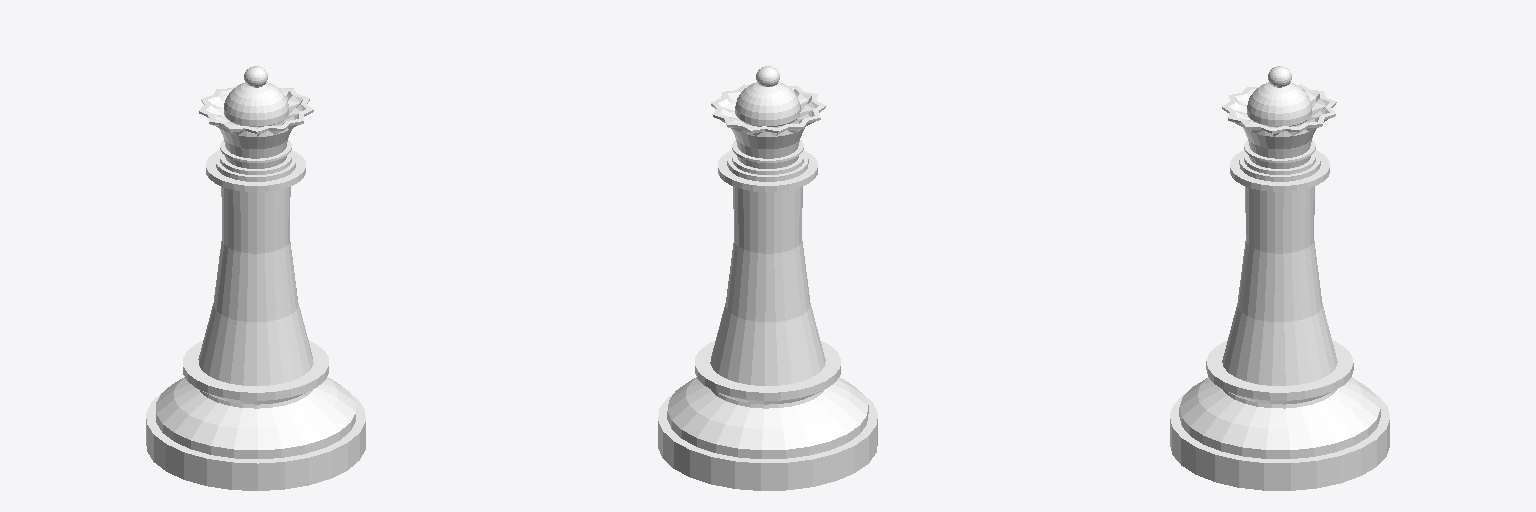
Rendered from queen_white.obj.
3 renders of one model, left to right at view 1: azimuth 30°, elevation 25°; view 2: azimuth 150°, elevation 25°; view 3: azimuth 270°, elevation 25°, orthographic.
Visible parts, largest first — view 1: queen_white_uploads_files_[number redacted]_Chess+Set.003; view 2: queen_white_uploads_files_[number redacted]_Chess+Set.003; view 3: queen_white_uploads_files_[number redacted]_Chess+Set.003.
Boxes of the visible parts, <box> form: queen_white_uploads_files_[number redacted]_Chess+Set.003: <box>146,66,365,490</box>; queen_white_uploads_files_[number redacted]_Chess+Set.003: <box>658,66,877,490</box>; queen_white_uploads_files_[number redacted]_Chess+Set.003: <box>1170,66,1389,490</box>.
Bounding box in the file's own units: 4.56 × 8.64 × 4.58.